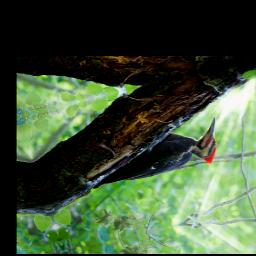Woodpecker: (78, 115, 230, 195)
